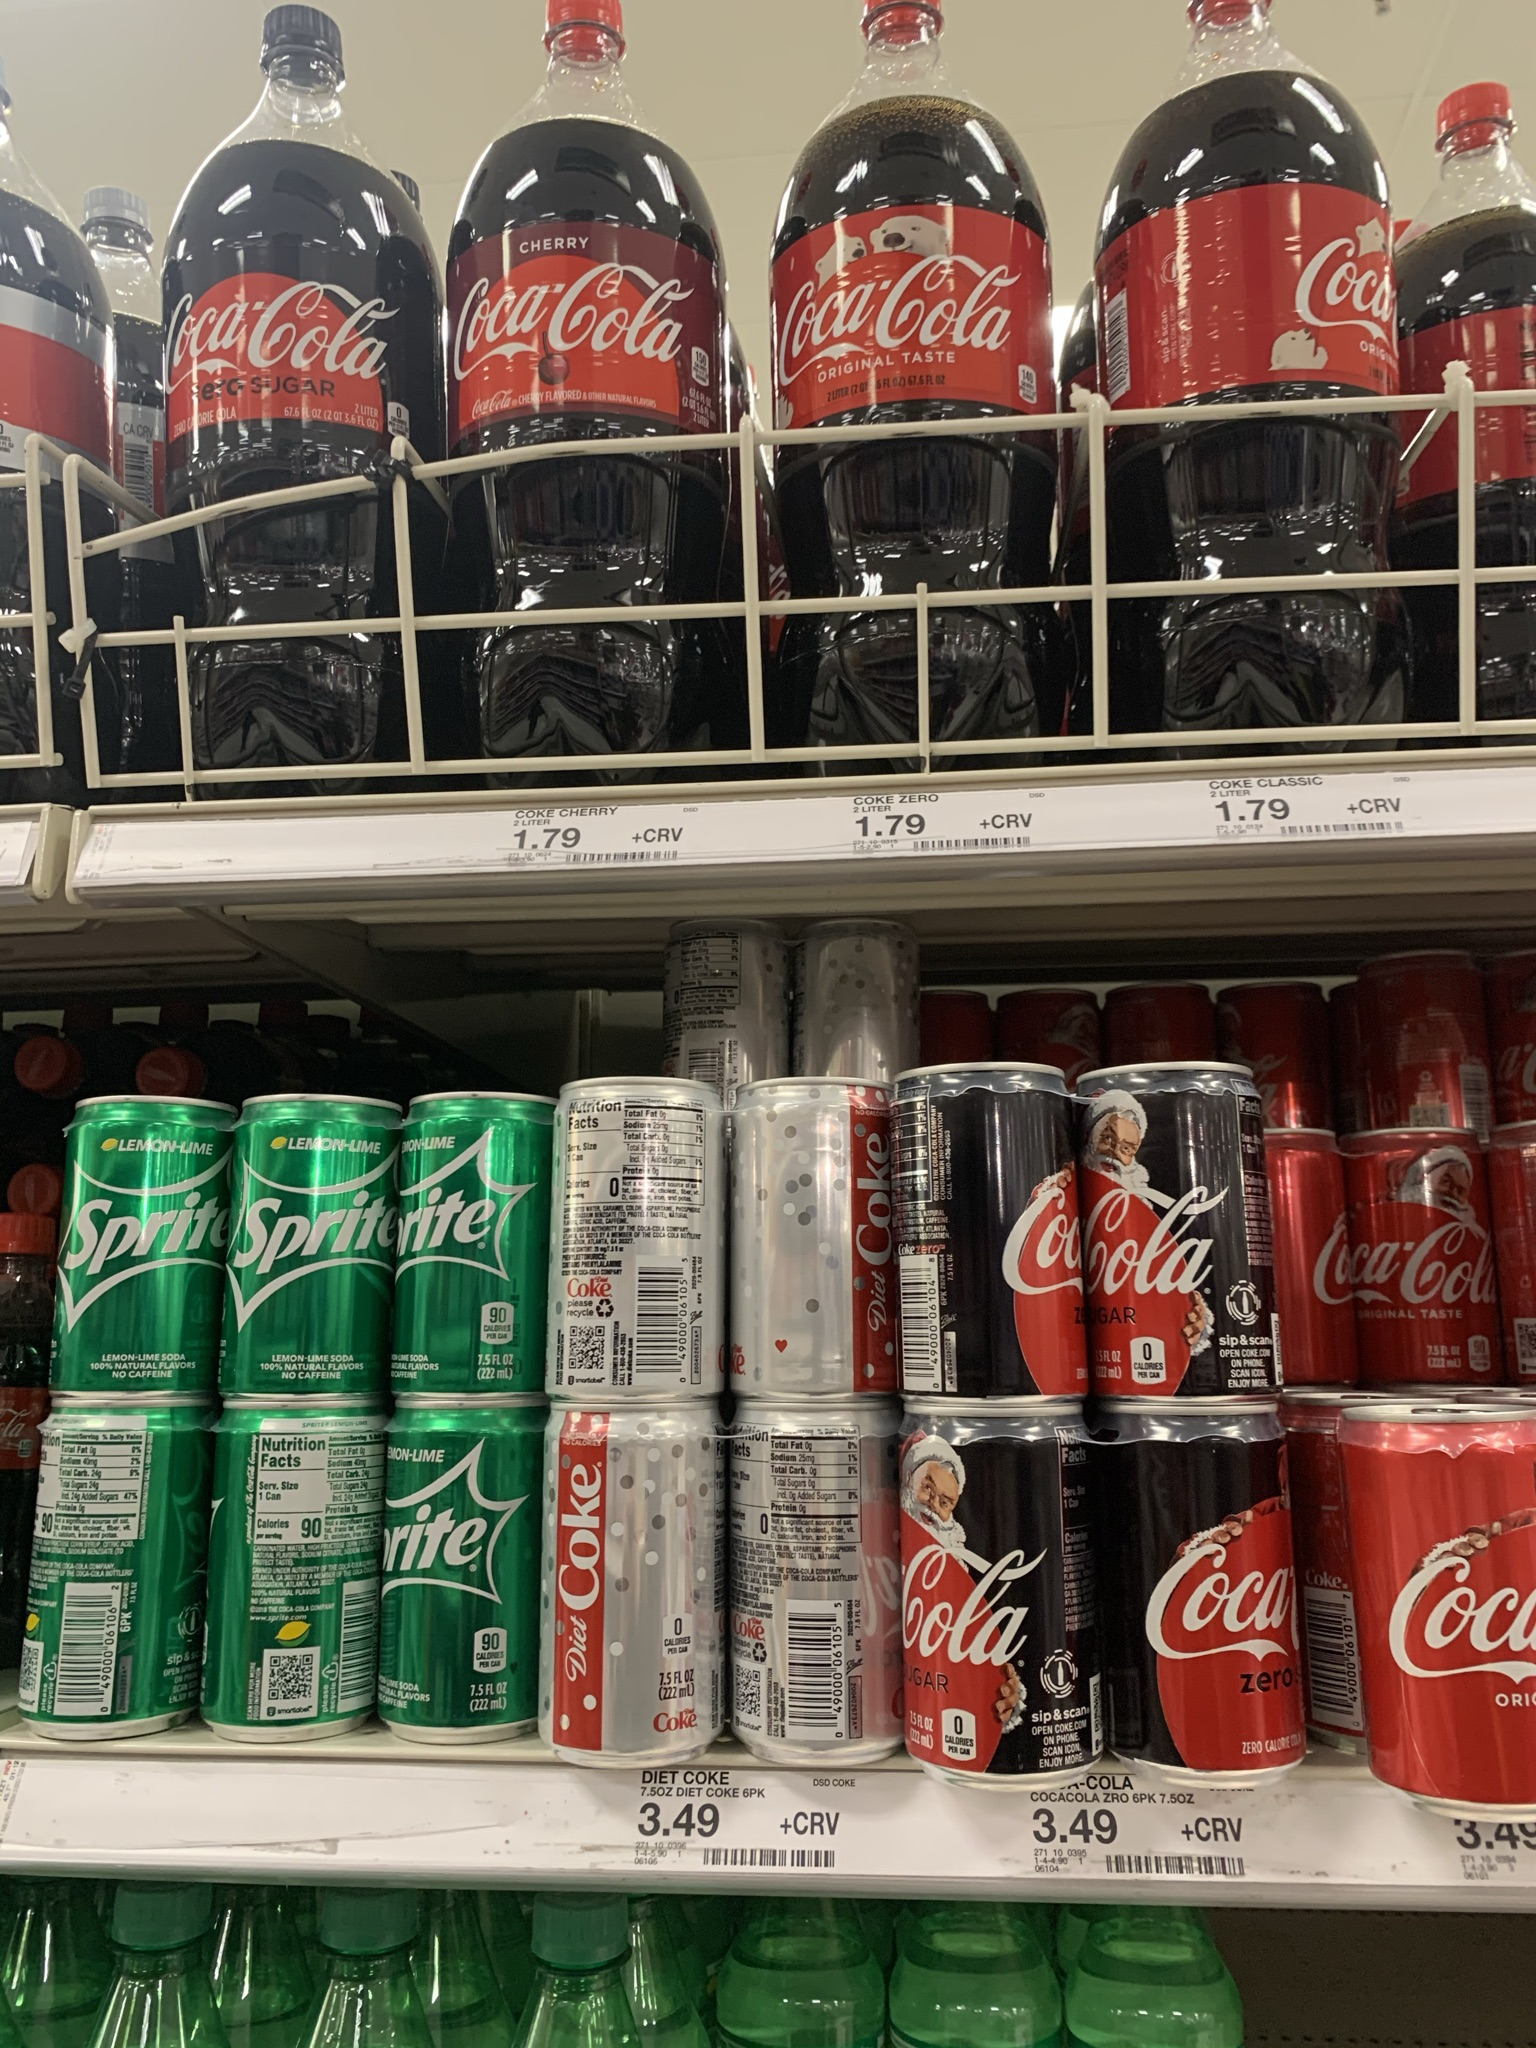can: (1092, 1403, 1304, 1793), (891, 1401, 1097, 1785), (1079, 1059, 1281, 1397), (887, 1063, 1083, 1405), (542, 1401, 721, 1771), (726, 1400, 900, 1767), (207, 1400, 378, 1746), (549, 1072, 724, 1403), (34, 1395, 198, 1743), (381, 1395, 537, 1746), (226, 1095, 402, 1395), (733, 1069, 891, 1395), (56, 1095, 224, 1388), (402, 1087, 549, 1393), (1347, 1132, 1505, 1377)
